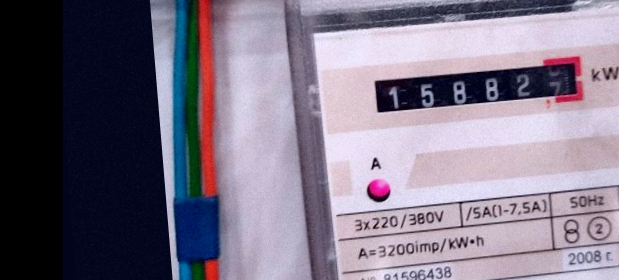1: (388, 80, 403, 110)
2: (514, 70, 533, 98)
5: (419, 79, 438, 110)
7: (548, 77, 562, 95)
8: (483, 73, 502, 102), (451, 77, 469, 106)
screen: (362, 46, 592, 125)
